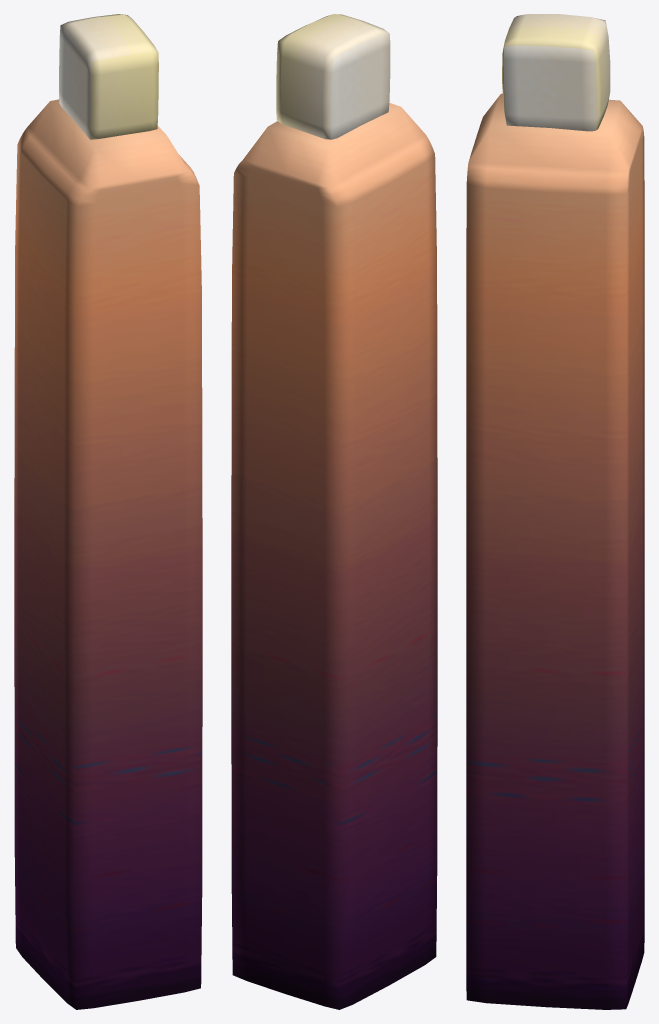
Rendered from FencePost.fbx.
3 views of the same model, side by side, from view 1: azimuth 30°, elevation 25°; view 2: azimuth 150°, elevation 25°; view 3: azimuth 270°, elevation 25° (orthographic).
Visible parts, largest first — view 1: pCube12, pCube13; view 2: pCube12, pCube13; view 3: pCube12, pCube13.
Boxes of the visible parts, <box> form: pCube12: <box>14,99,202,1009</box>; pCube13: <box>59,14,158,139</box>; pCube12: <box>231,103,437,1009</box>; pCube13: <box>276,14,390,139</box>; pCube12: <box>466,93,644,1009</box>; pCube13: <box>502,14,610,131</box>.
Size of the model in its own units: 55.52 by 362 by 61.
1 material, 1 textured.
